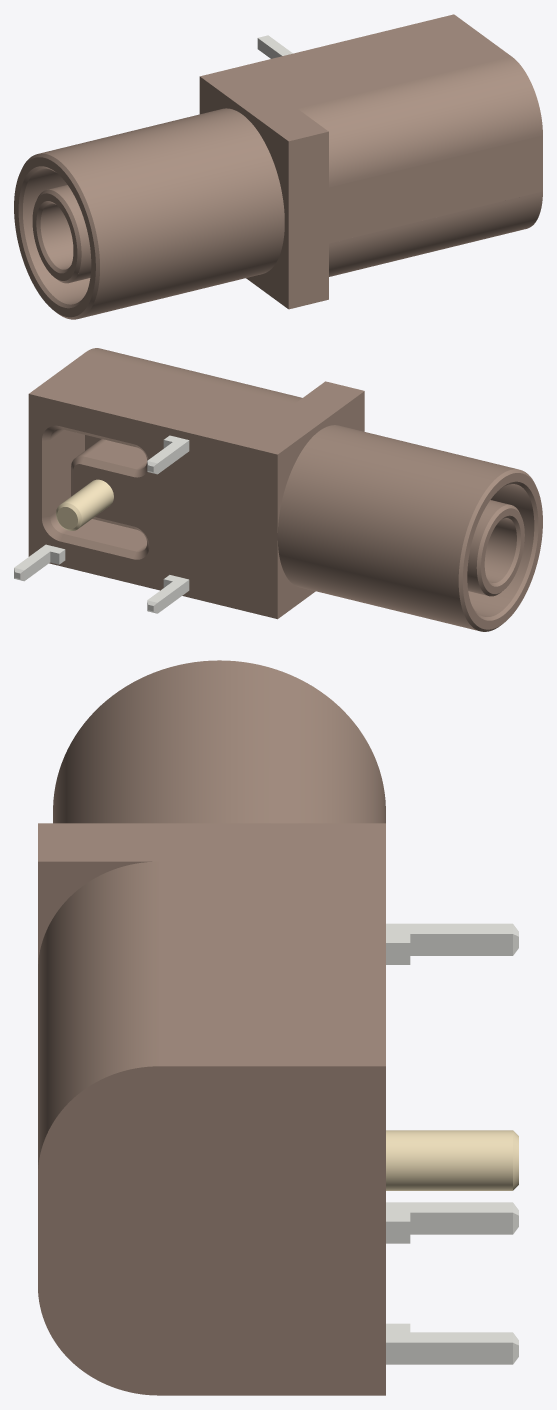
The model's file is Banana_Cliff_FCR7350N_S16N-PC_Horizontal.glb.
3 views of the same model, one above another, from view 1: azimuth 30°, elevation 25°; view 2: azimuth 150°, elevation 25°; view 3: azimuth 270°, elevation 25° (orthographic). The views are drawn at different scales.
Visible parts, largest first — view 1: Shape_IndexedFaceSet.031, Shape_IndexedFaceSet.004, Shape_IndexedFaceSet.002, Shape_IndexedFaceSet.001, Shape_IndexedFaceSet.006, Shape_IndexedFaceSet.007, Shape_IndexedFaceSet.064, Shape_IndexedFaceSet.062, Shape_IndexedFaceSet.070, Shape_IndexedFaceSet.066, Shape_IndexedFaceSet.055, Shape_IndexedFaceSet.068 (+3 smaller); view 2: Shape_IndexedFaceSet.031, Shape_IndexedFaceSet.003, Shape_IndexedFaceSet.001, Shape_IndexedFaceSet.007, Shape_IndexedFaceSet.064, Shape_IndexedFaceSet.062, Shape_IndexedFaceSet.046, Shape_IndexedFaceSet.002, Shape_IndexedFaceSet.070, Shape_IndexedFaceSet.042, Shape_IndexedFaceSet.029, Shape_IndexedFaceSet.053 (+15 smaller); view 3: Shape_IndexedFaceSet, Shape_IndexedFaceSet.001, Shape_IndexedFaceSet.031, Shape_IndexedFaceSet.002, Shape_IndexedFaceSet.029, Shape_IndexedFaceSet.008, Shape_IndexedFaceSet.010, Shape_IndexedFaceSet.038, Shape_IndexedFaceSet.082, Shape_IndexedFaceSet.016, Shape_IndexedFaceSet.089, Shape_IndexedFaceSet.009.
Boxes of the visible parts, x1=… form: Shape_IndexedFaceSet.031: x1=40, y1=108, x2=284, y2=318; Shape_IndexedFaceSet.004: x1=288, y1=131, x2=542, y2=309; Shape_IndexedFaceSet.002: x1=298, y1=57, x2=542, y2=187; Shape_IndexedFaceSet.001: x1=200, y1=14, x2=511, y2=141; Shape_IndexedFaceSet.006: x1=329, y1=191, x2=542, y2=276; Shape_IndexedFaceSet.007: x1=199, y1=76, x2=288, y2=308; Shape_IndexedFaceSet.064: x1=23, y1=168, x2=90, y2=304; Shape_IndexedFaceSet.062: x1=14, y1=157, x2=95, y2=317; Shape_IndexedFaceSet.070: x1=40, y1=203, x2=73, y2=269; Shape_IndexedFaceSet.066: x1=47, y1=185, x2=91, y2=282; Shape_IndexedFaceSet.055: x1=21, y1=153, x2=99, y2=319; Shape_IndexedFaceSet.068: x1=32, y1=193, x2=77, y2=280; Shape_IndexedFaceSet.031: x1=277, y1=425, x2=525, y2=630; Shape_IndexedFaceSet.003: x1=28, y1=394, x2=277, y2=618; Shape_IndexedFaceSet.001: x1=29, y1=352, x2=363, y2=454; Shape_IndexedFaceSet.007: x1=277, y1=391, x2=364, y2=618; Shape_IndexedFaceSet.064: x1=468, y1=484, x2=534, y2=616; Shape_IndexedFaceSet.062: x1=462, y1=473, x2=542, y2=629; Shape_IndexedFaceSet.046: x1=50, y1=429, x2=84, y2=516; Shape_IndexedFaceSet.002: x1=86, y1=348, x2=302, y2=403; Shape_IndexedFaceSet.070: x1=484, y1=518, x2=516, y2=582; Shape_IndexedFaceSet.042: x1=63, y1=519, x2=146, y2=551; Shape_IndexedFaceSet.029: x1=62, y1=479, x2=113, y2=527; Shape_IndexedFaceSet.053: x1=84, y1=440, x2=146, y2=469; Shape_IndexedFaceSet: x1=38, y1=1066, x2=385, y2=1395; Shape_IndexedFaceSet.001: x1=38, y1=823, x2=385, y2=1066; Shape_IndexedFaceSet.031: x1=53, y1=660, x2=385, y2=823; Shape_IndexedFaceSet.002: x1=38, y1=861, x2=158, y2=1168; Shape_IndexedFaceSet.029: x1=386, y1=1130, x2=512, y2=1190; Shape_IndexedFaceSet.008: x1=38, y1=861, x2=151, y2=963; Shape_IndexedFaceSet.010: x1=386, y1=1342, x2=512, y2=1364; Shape_IndexedFaceSet.038: x1=410, y1=1212, x2=512, y2=1234; Shape_IndexedFaceSet.082: x1=410, y1=934, x2=512, y2=955; Shape_IndexedFaceSet.016: x1=386, y1=1202, x2=512, y2=1221; Shape_IndexedFaceSet.089: x1=386, y1=923, x2=512, y2=942; Shape_IndexedFaceSet.009: x1=386, y1=1323, x2=512, y2=1342.
Size of the model in its own units: 12.99 by 4.72 by 6.26.
